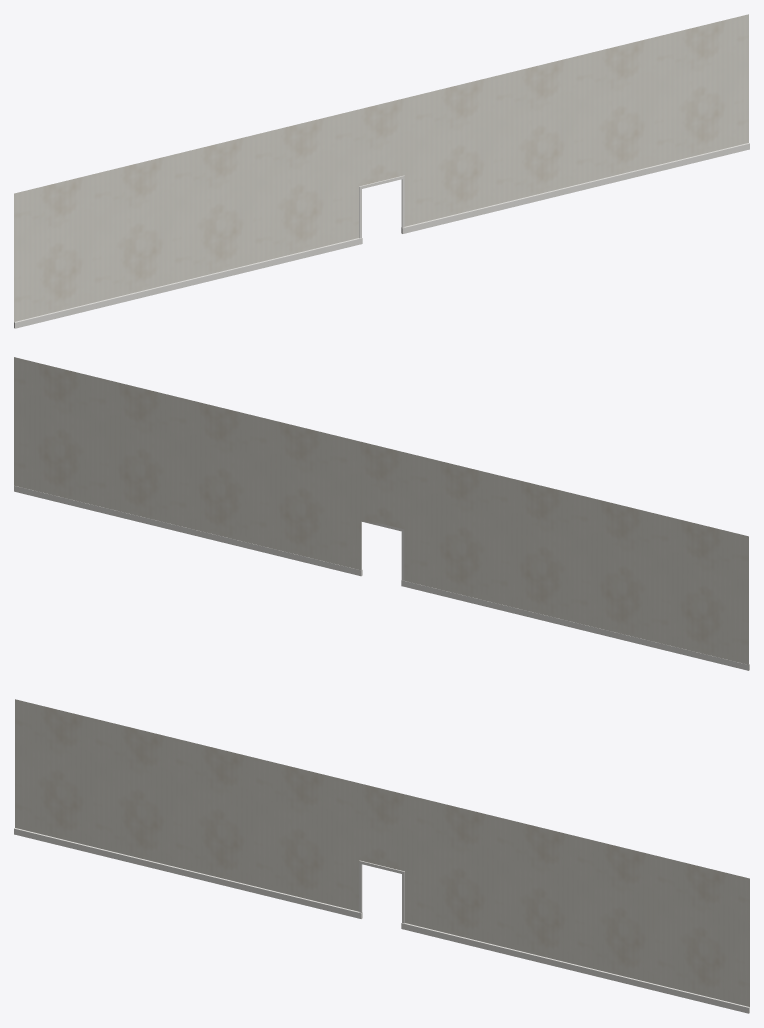
Rendered from wall18_hatch.gltf.
The picture shows the model from 3 angles, top to bottom: view 1: azimuth 30°, elevation 25°; view 2: azimuth 150°, elevation 25°; view 3: azimuth 330°, elevation 25°; orthographic projection.
Visible parts, largest first — view 1: jx_w18_hatch; view 2: jx_w18_hatch; view 3: jx_w18_hatch.
Boxes of the visible parts, x1,y1,x2,y2 form: jx_w18_hatch: (14, 14, 749, 328); jx_w18_hatch: (14, 357, 749, 670); jx_w18_hatch: (14, 699, 749, 1013).
Size of the model in its own units: 18.3 by 3.2 by 0.05.
2 materials, 2 textured.
